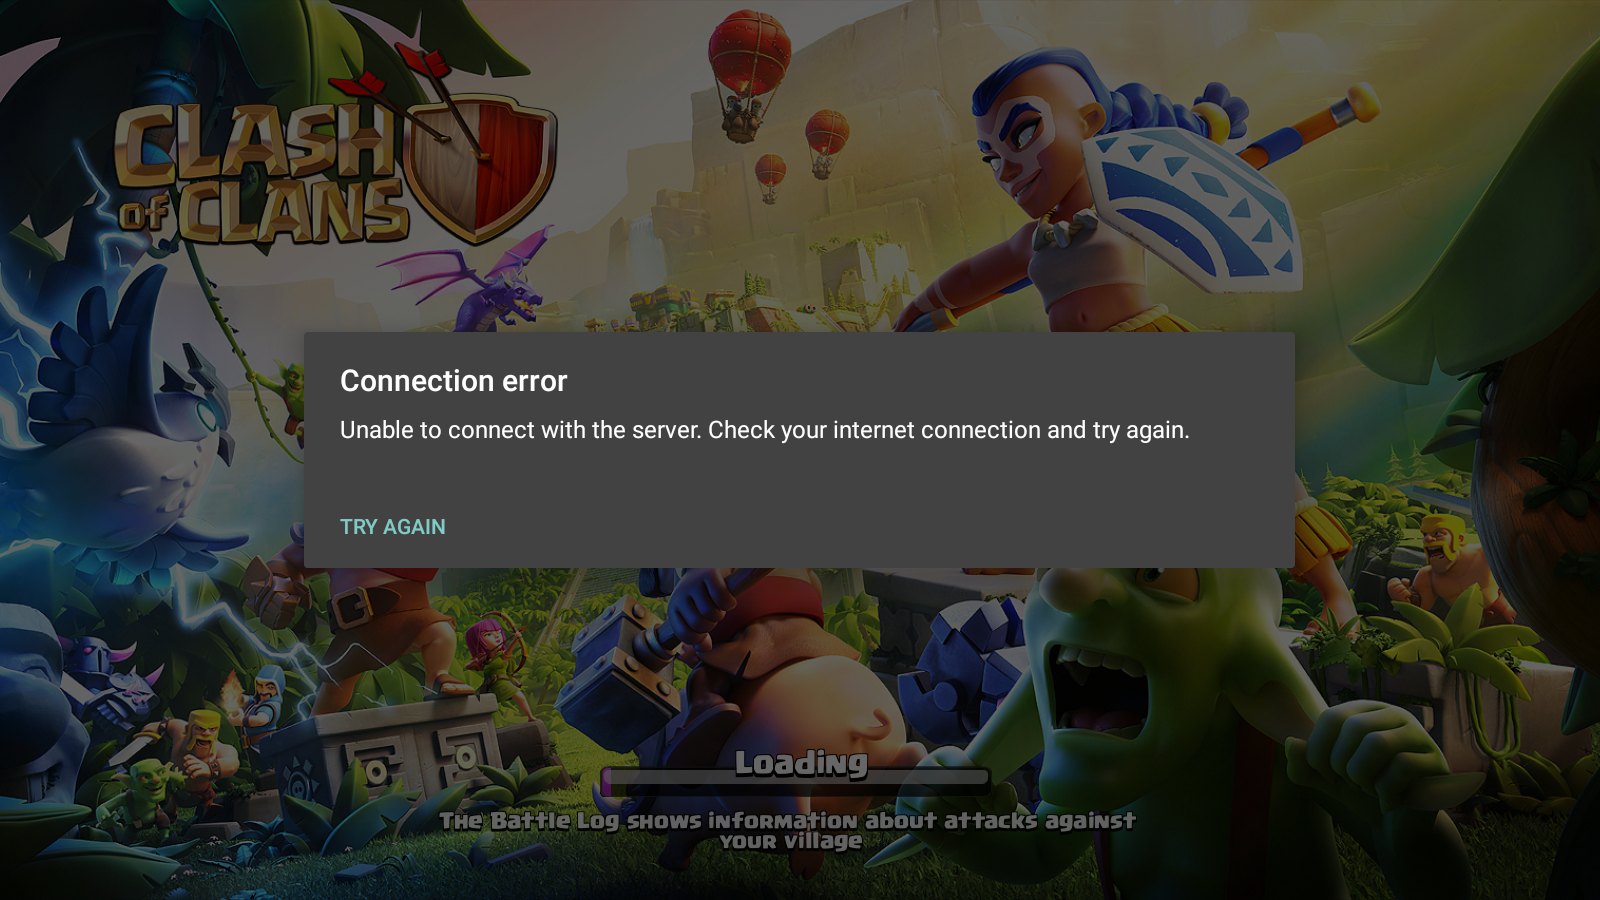connection_lost: (303, 332, 1295, 567)
try_again: (331, 514, 462, 541)
